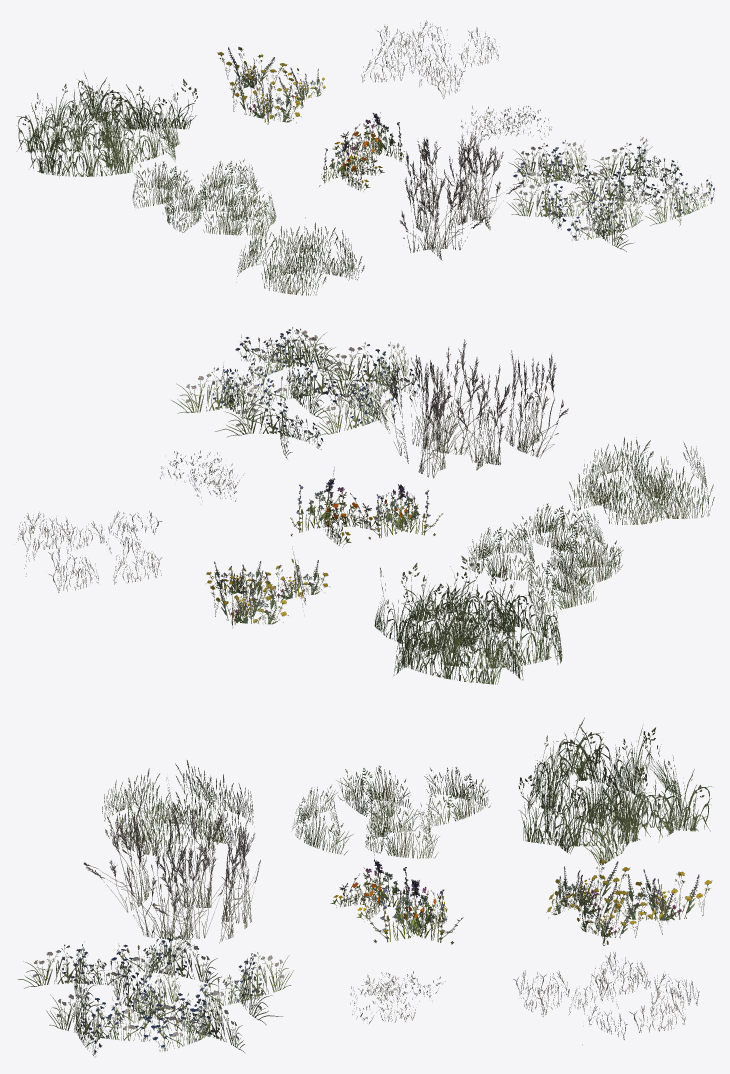
File: grass.glb
3 views of the same model, one above another, from view 1: azimuth 30°, elevation 25°; view 2: azimuth 150°, elevation 25°; view 3: azimuth 270°, elevation 25° (orthographic). The views are drawn at different scales.
Visible parts, largest first — view 1: Grass_Reeds_LOD0; view 2: Grass_Reeds_LOD0; view 3: Grass_Reeds_LOD0.
Boxes of the visible parts, x1=… form: Grass_Reeds_LOD0: x1=16, y1=20, x2=714, y2=295; Grass_Reeds_LOD0: x1=16, y1=327, x2=714, y2=684; Grass_Reeds_LOD0: x1=18, y1=717, x2=713, y2=1057.
Size of the model in its own units: 12.73 by 2.16 by 13.
2 materials, 2 textured.
